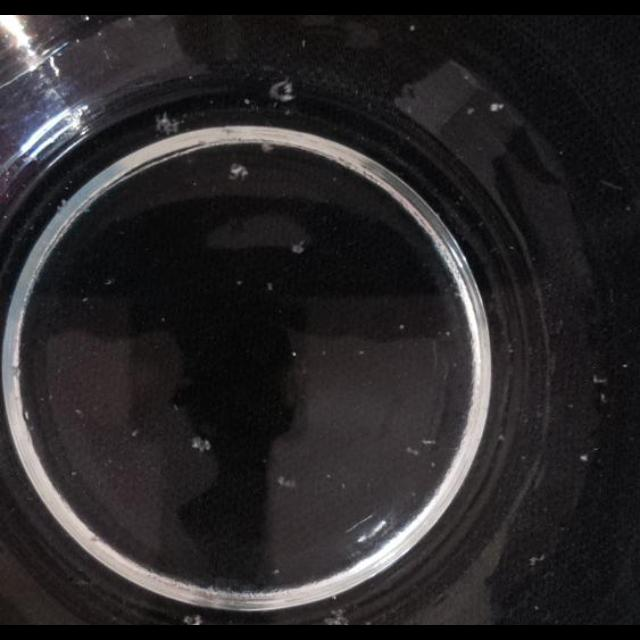Fibre: (154, 112, 180, 136), (228, 162, 248, 180), (292, 239, 306, 253), (490, 102, 504, 112), (594, 374, 608, 384)
microbeads: (528, 554, 544, 566), (406, 446, 420, 456), (104, 278, 115, 286), (600, 392, 608, 403), (422, 438, 436, 444), (266, 282, 274, 292), (75, 408, 83, 418), (131, 428, 139, 438), (466, 107, 476, 115), (498, 433, 506, 442), (398, 323, 406, 331), (236, 278, 244, 286), (580, 454, 588, 462), (272, 568, 280, 576), (70, 469, 78, 476), (243, 98, 251, 105), (358, 348, 366, 354), (82, 296, 90, 302), (446, 329, 452, 336), (622, 362, 628, 368), (291, 351, 297, 357)
